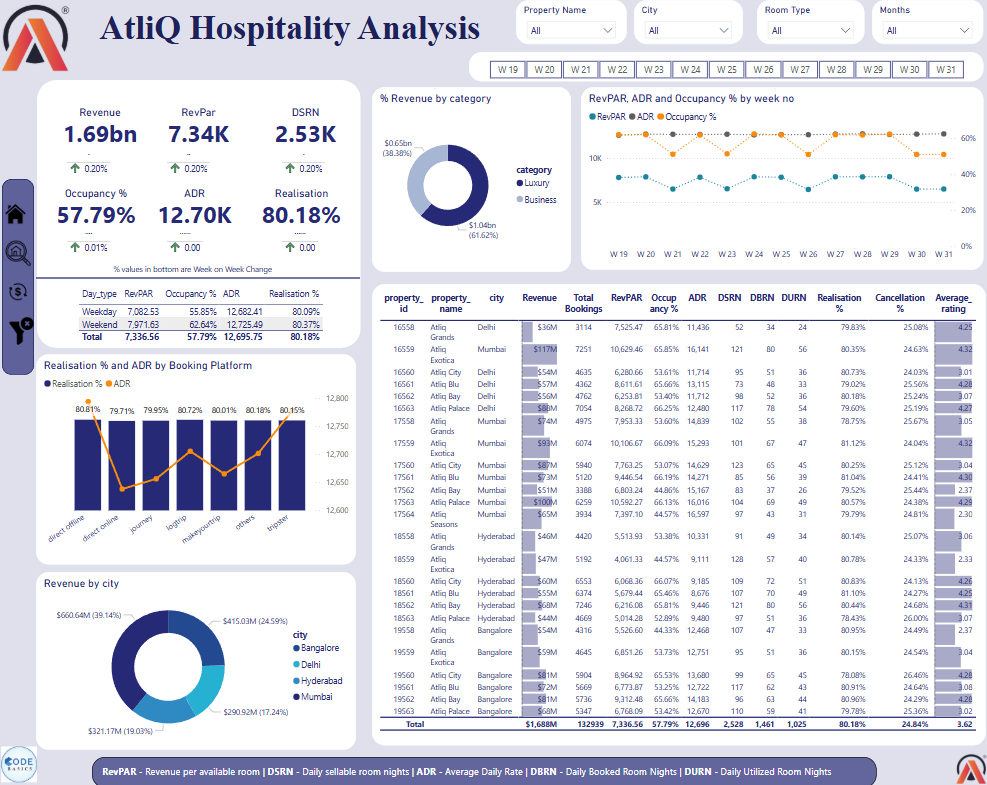

Layout of this report page (visuals, bound fields, positions):
{"tool":"powerbi","page":{"name":"Overview","canvas":[1550,1230],"ordinal":0},"visuals":[{"type":"slicer","title":"City","fields":{"Values":["dim_hotels.city"]},"box":[993.8,0,170,68.8],"z":0},{"type":"slicer","title":"Months","fields":{"Values":["dim_date.mmm yy"]},"box":[1366.2,0,173.8,68.8],"z":1000},{"type":"slicer","title":"Room Type","fields":{"Values":["dim_rooms.room_class"]},"box":[1186.2,0,167.5,68.8],"z":2000},{"type":"textbox","box":[152.7,6.2,620.7,75.1],"z":3000},{"type":"slicer","title":"Weeks ","fields":{"Values":["dim_date.week no"]},"box":[736.2,81.2,803.8,46.2],"z":4000},{"type":"textbox","box":[146.2,1182.5,1226.2,47.5],"z":5000},{"type":"slicer","title":"Property Name","fields":{"Values":["dim_hotels.property_name"]},"box":[808.8,0,172.5,68.8],"z":6000},{"type":"lineStackedColumnComboChart","title":"Realisation % and ADR by Booking Platform","fields":{"Category":["fact_bookings.booking_platform"],"Y":["_Measures.Realisation %"],"Y2":["_Measures.ADR"]},"box":[60,553.8,500,328.8],"z":7000},{"type":"image","box":[0,0,119.5,117],"z":8000},{"type":"donutChart","title":"% Revenue by category","fields":{"Y":["_Measures.Revenue"],"Category":["dim_hotels.category"]},"box":[583.8,136.2,311.2,288.8],"z":9000},{"type":"shape","box":[60.3,125.6,506.2,418.7],"z":10000},{"type":"image","box":[0,1160,66.2,70],"z":11000},{"type":"group","id":"g1","title":"Group 1","box":[77.6,165,486.5,66.5],"z":14000},{"type":"card","title":"Revenue","fields":{"Values":["_Measures.Revenue"]},"box":[77.6,165,162.5,66.5],"z":14000,"group":"g1"},{"type":"card","title":"Occupancy %","fields":{"Values":["_Measures.Occupancy %"]},"box":[71.2,292.5,162.5,66.5],"z":14000,"group":"g2"},{"type":"group","id":"g2","title":"Group 1","box":[71.2,292.5,486.2,66.2],"z":15000},{"type":"group","id":"g3","title":"Group 2","box":[101,224,426,56],"z":16000},{"type":"lineChart","fields":{"Y":["_Measures.RevPAR","_Measures.ADR"],"Y2":["_Measures.Occupancy %"],"Category":["dim_date.mmm yy.Variation.Date Hierarchy.Year","dim_date.mmm yy.Variation.Date Hierarchy.Quarter","dim_date.mmm yy.Variation.Date Hierarchy.Month","dim_date.mmm yy.Variation.Date Hierarchy.Day","dim_date.week no"]},"box":[911.2,136.2,628.8,286.2],"z":17000},{"type":"card","title":"RevPar","fields":{"Values":["_Measures.RevPAR"]},"box":[229.8,165,167.1,66.5],"z":18000,"group":"g1"},{"type":"card","title":"ADR","fields":{"Values":["_Measures.ADR"]},"box":[223.4,292.5,167.1,66.5],"z":18000,"group":"g2"},{"type":"image","box":[1492.5,1171.2,57.5,58.8],"z":18000},{"type":"tableEx","fields":{"Values":["dim_hotels.property_id","dim_hotels.property_name","dim_hotels.city","_Measures.Revenue","_Measures.Total Bookings","_Measures.RevPAR","_Measures.Occupancy %","_Measures.ADR (Average Daily Rate)","_Measures.DSRN (Daily sellable Room Nights)","_Measures.DBRN (Daily booked room nights)","_Measures.DURN (Daily utilized room nights)","_Measures.Realisation %"]},"box":[583.8,443.8,958.8,721.2],"z":19000},{"type":"tableEx","fields":{"Values":["dim_date.Day_type","_Measures.RevPAR","_Measures.Occupancy %","_Measures.ADR","_Measures.Realisation %"]},"box":[120,443.8,402.5,100],"z":20000},{"type":"tableEx","title":".","fields":{"Values":["_Measures.Revenue WoW change %"]},"box":[101,224,89.9,56],"z":21000,"group":"g3"},{"type":"group","id":"g4","title":"Group 2","box":[101.2,347.5,426.2,56.2],"z":21000},{"type":"tableEx","title":".","fields":{"Values":["_Measures.Occupancy WoW change %"]},"box":[101.2,347.5,89.9,56],"z":21000,"group":"g4"},{"type":"card","title":"DSRN","fields":{"Values":["_Measures.DSRN"]},"box":[396.9,165,167.1,66.5],"z":21001,"group":"g1"},{"type":"card","title":"Realisation","fields":{"Values":["_Measures.Realisation %"]},"box":[390.5,292.5,167.1,66.5],"z":21001,"group":"g2"},{"type":"tableEx","title":".","fields":{"Values":["_Measures.Revpar WoW change %"]},"box":[257.4,224,89.9,56],"z":22000,"group":"g3"},{"type":"tableEx","title":".","fields":{"Values":["_Measures.ADR WoW change %"]},"box":[257.6,347.5,89.9,56],"z":22000,"group":"g4"},{"type":"donutChart","fields":{"Category":["dim_hotels.city"],"Y":["_Measures.Revenue"]},"box":[60,893.8,500,277.5],"z":22000},{"type":"tableEx","title":".","fields":{"Values":["_Measures.."]},"box":[437.1,224,89.9,56],"z":23000,"group":"g3"},{"type":"tableEx","title":".","fields":{"Values":["_Measures......."]},"box":[437.3,347.5,89.9,56],"z":23000,"group":"g4"},{"type":"shape","box":[60,425,506.2,18.8],"z":23000},{"type":"textbox","box":[175,406.2,287.5,37.5],"z":24000},{"type":"shape","box":[6.2,280,50,306.2],"z":24500,"group":"g5"},{"type":"image","title":"Property Details","box":[6.2,368.8,50,53.8],"z":25000,"group":"g5"},{"type":"image","title":"Revenue page","box":[6.2,422.5,50,68.8],"z":26000,"group":"g5"},{"type":"image","title":"Clear filter","box":[6.2,491.2,60,52.5],"z":27000,"group":"g5"},{"type":"image","title":"Overview","box":[6.2,293.1,41.9,83.7],"z":27500,"group":"g5"},{"type":"group","id":"g5","title":"Home panel","box":[6.2,280,60,306.2],"z":27501}]}

Visuals, with their boxes in screenshot pixels (x1, y1, x2, y2), scaled from the page's 1550x1230 canvas onto the 987x785 screenshot:
"City" slicer: Rect(633, 0, 741, 44)
"Months" slicer: Rect(870, 0, 981, 44)
"Room Type" slicer: Rect(755, 0, 862, 44)
textbox: Rect(97, 4, 492, 52)
"Weeks " slicer: Rect(469, 52, 981, 81)
textbox: Rect(93, 755, 874, 784)
"Property Name" slicer: Rect(515, 0, 625, 44)
"Realisation % and ADR by Booking Platform" lineStackedColumnComboChart: Rect(38, 353, 357, 563)
image: Rect(0, 0, 76, 75)
"% Revenue by category" donutChart: Rect(372, 87, 570, 271)
shape: Rect(38, 80, 361, 347)
image: Rect(0, 740, 42, 784)
"Group 1" group: Rect(49, 105, 359, 148)
"Revenue" card: Rect(49, 105, 153, 148)
"Occupancy %" card: Rect(45, 187, 149, 229)
"Group 1" group: Rect(45, 187, 355, 229)
"Group 2" group: Rect(64, 143, 336, 179)
lineChart - _Measures.RevPAR x _Measures.ADR: Rect(580, 87, 981, 270)
"RevPar" card: Rect(146, 105, 253, 148)
"ADR" card: Rect(142, 187, 249, 229)
image: Rect(950, 747, 986, 784)
tableEx - dim_hotels.property_id x dim_hotels.property_name: Rect(372, 283, 982, 744)
tableEx - dim_date.Day_type x _Measures.RevPAR: Rect(76, 283, 333, 347)
"." tableEx: Rect(64, 143, 122, 179)
"Group 2" group: Rect(64, 222, 336, 258)
"." tableEx: Rect(64, 222, 122, 258)
"DSRN" card: Rect(253, 105, 359, 148)
"Realisation" card: Rect(249, 187, 355, 229)
"." tableEx: Rect(164, 143, 221, 179)
"." tableEx: Rect(164, 222, 221, 258)
donutChart - dim_hotels.city x _Measures.Revenue: Rect(38, 570, 357, 748)
"." tableEx: Rect(278, 143, 336, 179)
"." tableEx: Rect(278, 222, 336, 258)
shape: Rect(38, 271, 361, 283)
textbox: Rect(111, 259, 295, 283)
shape: Rect(4, 179, 36, 374)
"Property Details" image: Rect(4, 235, 36, 270)
"Revenue page" image: Rect(4, 270, 36, 314)
"Clear filter" image: Rect(4, 313, 42, 347)
"Overview" image: Rect(4, 187, 31, 240)
"Home panel" group: Rect(4, 179, 42, 374)
